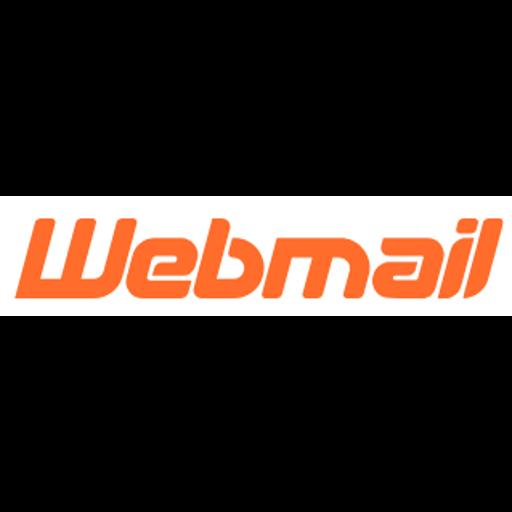Webmail Provider: (0, 196, 512, 316)
